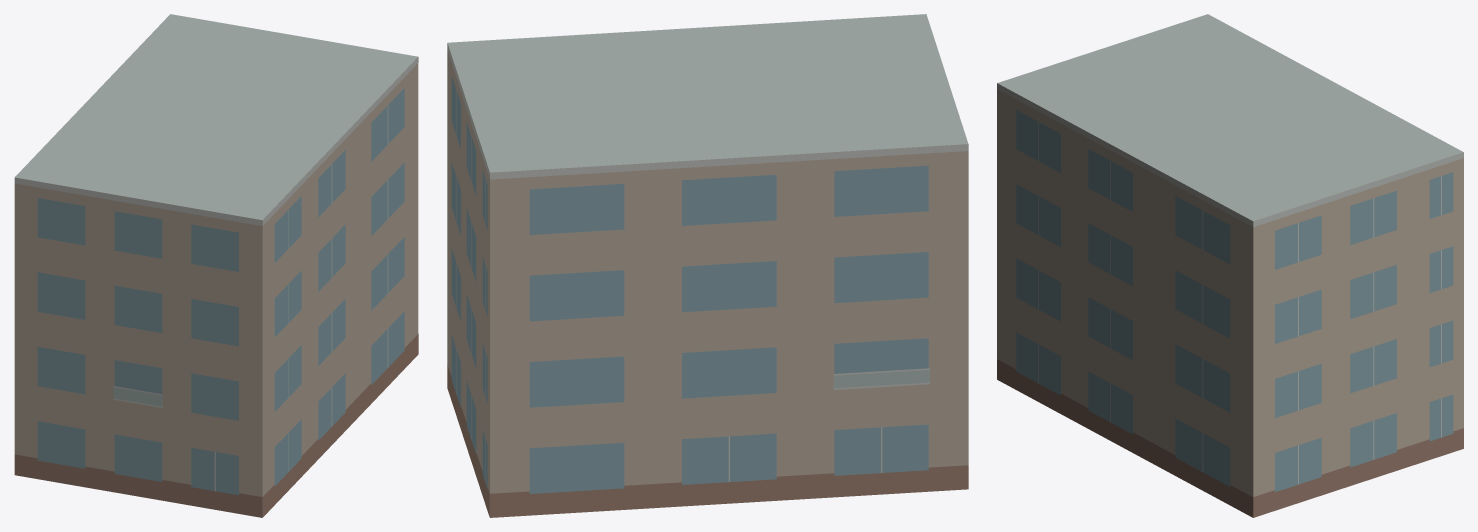
Rendered from survey-upis-32827340.glb.
3 views of the same model, side by side, from view 1: azimuth 30°, elevation 25°; view 2: azimuth 150°, elevation 25°; view 3: azimuth 270°, elevation 25° (orthographic). The views are drawn at different scales.
Parts seen in each view (by area): view 1: survey-upis-32827340.tmp; view 2: survey-upis-32827340.tmp; view 3: survey-upis-32827340.tmp.
Part boxes in pixels (x1,y1,x2,y2): survey-upis-32827340.tmp: [14, 14, 418, 517]; survey-upis-32827340.tmp: [447, 14, 968, 517]; survey-upis-32827340.tmp: [997, 14, 1463, 517].
Size of the model in its own units: 18.31 by 12.2 by 17.41.
